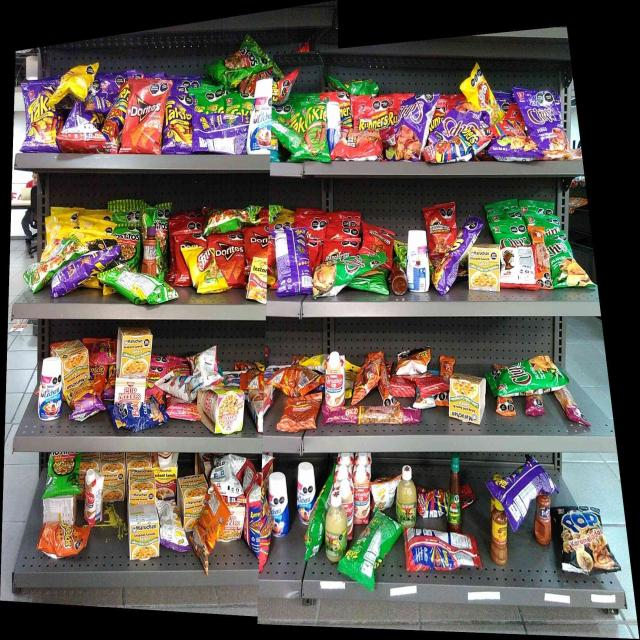bitzEnchilado90: (282, 396, 316, 429)
bitzEnchilado95: (534, 226, 548, 287), (440, 357, 448, 408)
bitzHabanero: (324, 408, 418, 424), (560, 388, 588, 425)
bokadosCacahuates: (114, 403, 165, 428)
botaneraChilito: (491, 510, 508, 565)
cheetosOriginal: (40, 524, 82, 554)
chipsFuego: (526, 90, 566, 159), (392, 94, 430, 161)
chipsJalapeno: (496, 359, 555, 392), (316, 257, 365, 294), (551, 236, 583, 286)
delPrimoSalsa: (325, 490, 347, 560), (396, 466, 416, 526)
doritosNacho: (126, 79, 162, 155), (218, 234, 244, 287), (246, 226, 268, 259)
fritosLimon: (189, 248, 216, 290), (467, 69, 494, 110)
leoCacahuates: (164, 373, 196, 397)
maruchanPollo: (449, 373, 486, 423), (118, 326, 151, 376), (127, 504, 157, 558), (469, 246, 499, 291), (64, 343, 88, 387), (179, 477, 194, 530)
nestleCarnation: (324, 352, 346, 407), (85, 469, 104, 525), (354, 466, 369, 516)
nestleLechera: (38, 357, 62, 420), (248, 86, 270, 154), (269, 472, 288, 536), (296, 462, 315, 522), (408, 230, 426, 292), (329, 100, 341, 148)
nissinCamaron: (201, 388, 243, 432)
popKarameladas: (556, 506, 609, 574)
productoAtras: (406, 534, 480, 570), (352, 519, 389, 581), (276, 230, 310, 294), (195, 113, 246, 153), (107, 276, 172, 302), (497, 463, 534, 506), (245, 462, 261, 559), (196, 503, 218, 563), (213, 456, 242, 501), (502, 246, 532, 288), (275, 367, 315, 393), (158, 501, 178, 548), (273, 115, 299, 151), (198, 348, 218, 386), (372, 478, 394, 510)
rancheritos: (428, 204, 457, 238), (342, 134, 378, 159), (363, 223, 393, 252)
runners: (433, 128, 485, 162)
salsaBufalo: (448, 454, 462, 532)
tajinDulce: (535, 498, 551, 545), (142, 226, 157, 274)
takisFuego: (23, 83, 56, 151), (164, 90, 193, 152), (435, 240, 467, 296)
takisOriginal: (301, 103, 328, 160)
tostitos: (212, 46, 261, 84), (46, 452, 80, 497), (116, 224, 140, 270)
